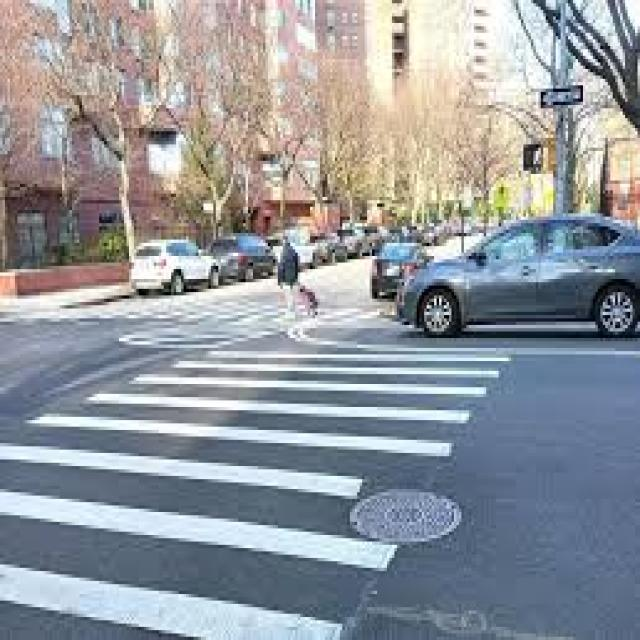Crosswalk: (0, 341, 512, 640)
